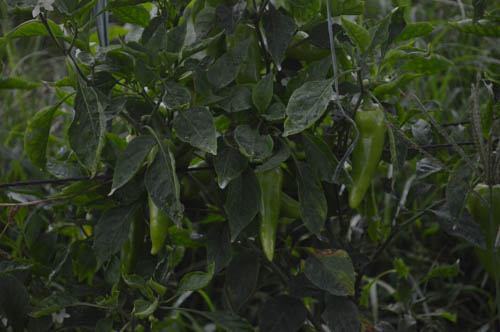ChiliPepper: (347, 111, 381, 206), (253, 166, 285, 259), (469, 186, 497, 269), (147, 198, 173, 251), (120, 218, 145, 270)
